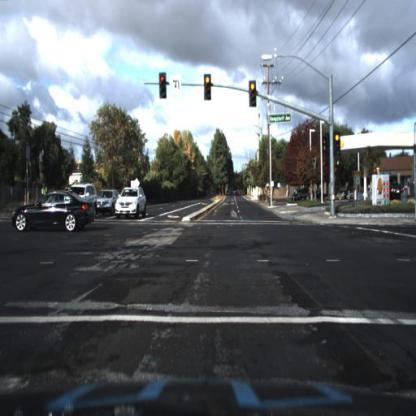biker: (41, 182, 50, 216)
car: (14, 192, 97, 233), (114, 186, 148, 225), (70, 182, 104, 220), (96, 186, 120, 213)
trafficLight-Red: (204, 71, 214, 100), (333, 134, 343, 157), (334, 133, 341, 154), (206, 76, 211, 97)
trafficLight-RedLeft: (160, 71, 168, 99)
